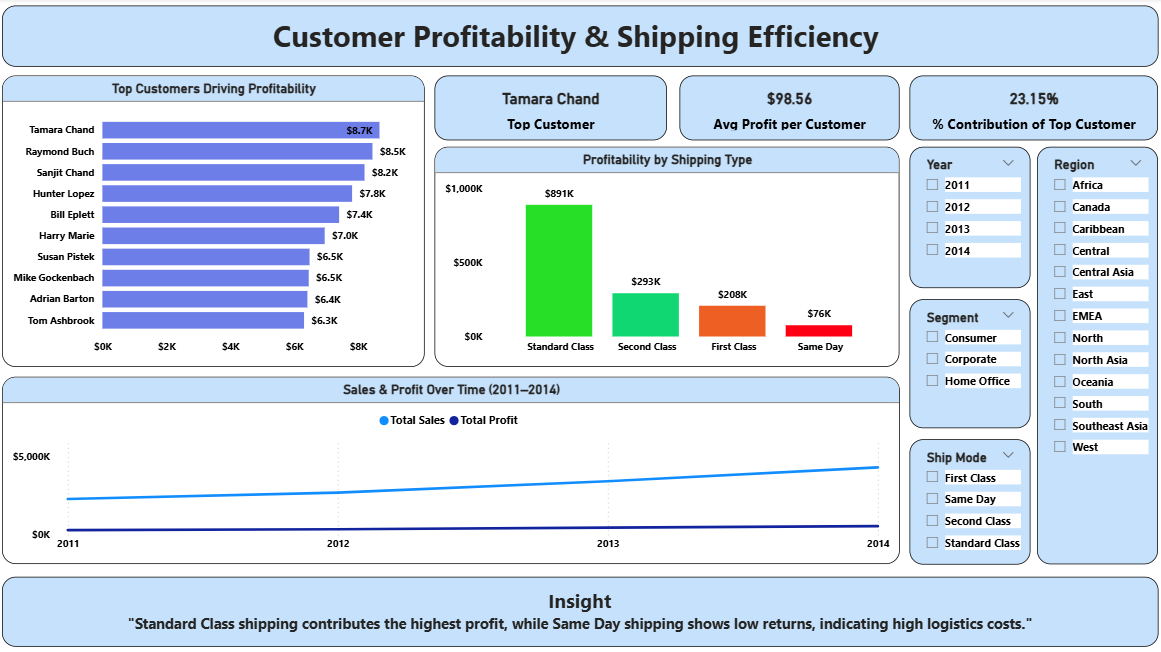

The dashboard page shown, as its layout file describes it:
{"tool":"powerbi","page":{"name":"Customer & Shipping Analysis","canvas":[1280,720],"ordinal":2},"visuals":[{"type":"card","fields":{"Values":["Min(Global_Superstore2.Customer Name)"]},"box":[480.3,85.1,255.2,71.4],"z":0},{"type":"barChart","title":"Top Customers Driving Profitability","fields":{"Category":["Global_Superstore2.Customer Name"],"Y":["Sum(Global_Superstore2.Profit)"]},"box":[5.5,85.1,463.8,319.7],"z":1000},{"type":"clusteredColumnChart","title":"Profitability by Shipping Type","fields":{"Category":["Global_Superstore2.Ship Mode"],"Y":["Sum(Global_Superstore2.Profit)"]},"box":[480.3,163.3,510.5,241.5],"z":2000},{"type":"card","fields":{"Values":["Measure_Table.Avg Profit by Discount"]},"box":[749.2,85.1,241.5,71.4],"z":3000},{"type":"card","fields":{"Values":["Measure_Table.Profit Margin %"]},"box":[1001.7,85.1,273.1,71.4],"z":4000},{"type":"textbox","box":[5.5,8.2,1269.3,67.2],"z":5000},{"type":"lineChart","title":"Sales & Profit Over Time (2011–2014)","fields":{"Y":["Sum(Global_Superstore2.Sales)","Sum(Global_Superstore2.Profit)"],"Category":["DateTable.Year"]},"box":[5.5,415.8,985.3,205.8],"z":6000},{"type":"slicer","fields":{"Values":["Global_Superstore2.Region"]},"box":[1141.7,163.3,133.1,458.3],"z":7000},{"type":"slicer","fields":{"Values":["DateTable.Year"]},"box":[1001.7,163.3,133.1,155.1],"z":8000},{"type":"textbox","box":[5.5,635.3,1269.3,76.8],"z":9000},{"type":"slicer","fields":{"Values":["Global_Superstore2.Segment"]},"box":[1001.7,330.7,133.1,141.3],"z":10000},{"type":"slicer","fields":{"Values":["Global_Superstore2.Ship Mode"]},"box":[1001.7,484.4,133.1,137.2],"z":11000}]}

Visuals, with their boxes in screenshot pixels (x1, y1, x2, y2), scaled from the page's 1280x720 canvas onto the 1161x652 screenshot:
card - Min(Global_Superstore2.Customer Name): BBox(436, 77, 667, 142)
"Top Customers Driving Profitability" barChart: BBox(5, 77, 426, 367)
"Profitability by Shipping Type" clusteredColumnChart: BBox(436, 148, 899, 367)
card - Measure_Table.Avg Profit by Discount: BBox(680, 77, 899, 142)
card - Measure_Table.Profit Margin %: BBox(909, 77, 1156, 142)
textbox: BBox(5, 7, 1156, 68)
"Sales & Profit Over Time (2011–2014)" lineChart: BBox(5, 377, 899, 563)
slicer - Global_Superstore2.Region: BBox(1036, 148, 1156, 563)
slicer - DateTable.Year: BBox(909, 148, 1029, 288)
textbox: BBox(5, 575, 1156, 645)
slicer - Global_Superstore2.Segment: BBox(909, 299, 1029, 427)
slicer - Global_Superstore2.Ship Mode: BBox(909, 439, 1029, 563)
